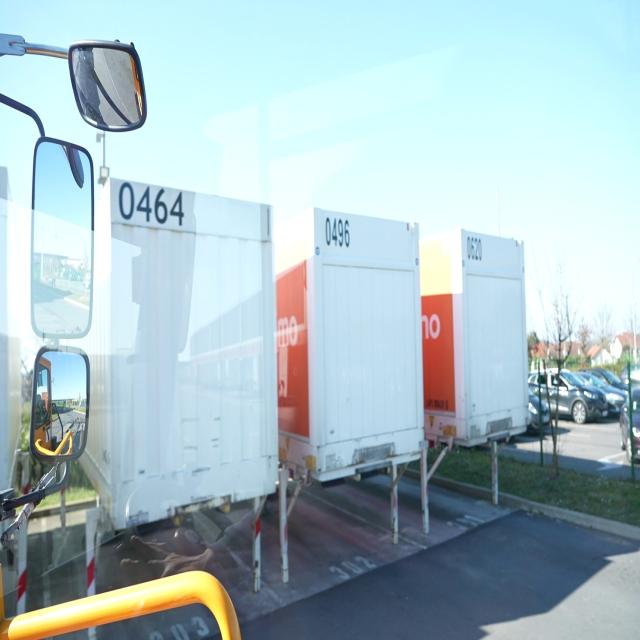Code: (115, 174, 185, 228), (322, 210, 350, 249), (464, 230, 484, 261)
